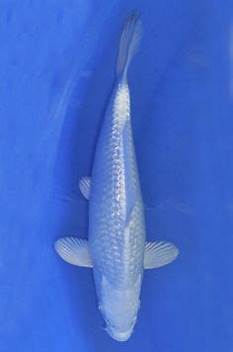white: (53, 11, 179, 343)
